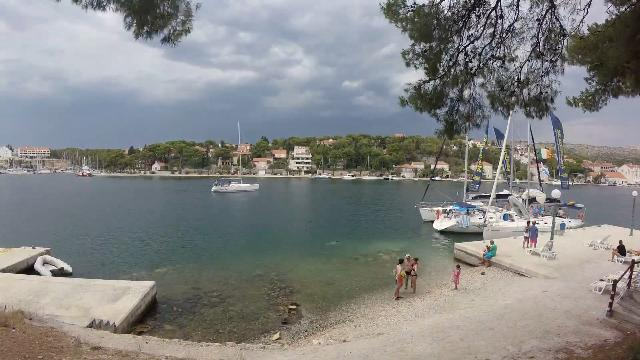Sailboat: (202, 172, 268, 195)
